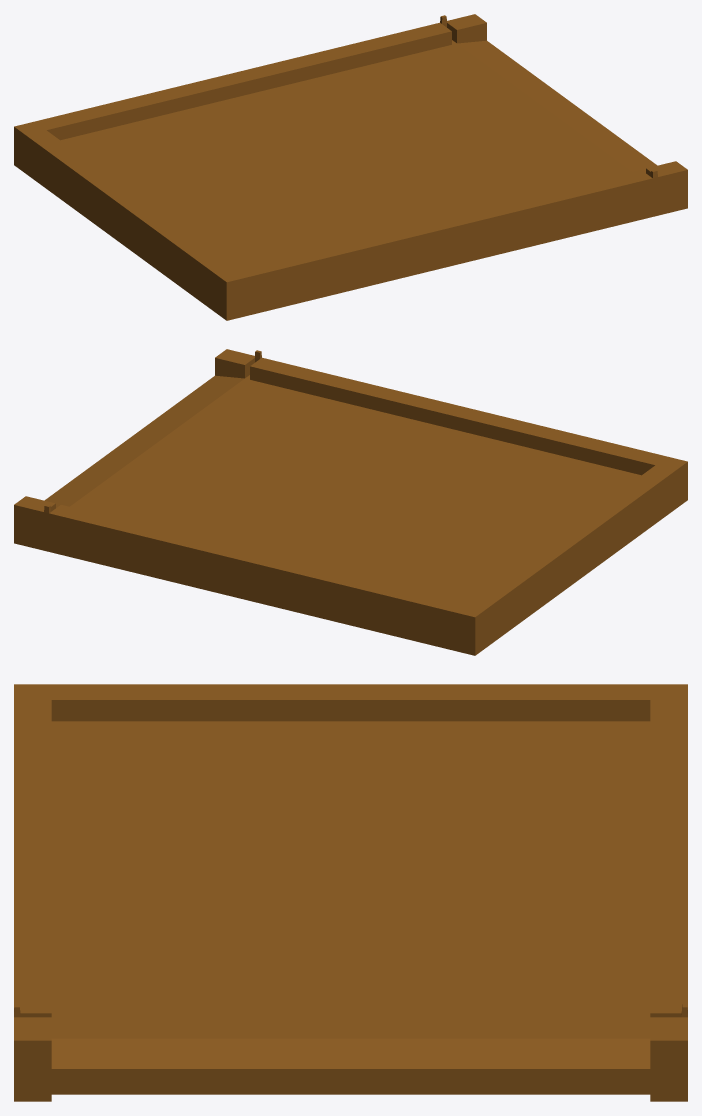
File: socle_de_ruche_simple.fbx
3 views of the same model, one above another, from view 1: azimuth 30°, elevation 25°; view 2: azimuth 150°, elevation 25°; view 3: azimuth 270°, elevation 25° (orthographic). The views are drawn at different scales.
Visible parts, largest first — view 1: Cube; view 2: Cube; view 3: Cube.
Part boxes in pixels (x1,y1,x2,y2): Cube: (14, 14, 687, 320); Cube: (14, 349, 687, 655); Cube: (14, 684, 687, 1101).
Size of the model in its own units: 53.8 by 5 by 43.
